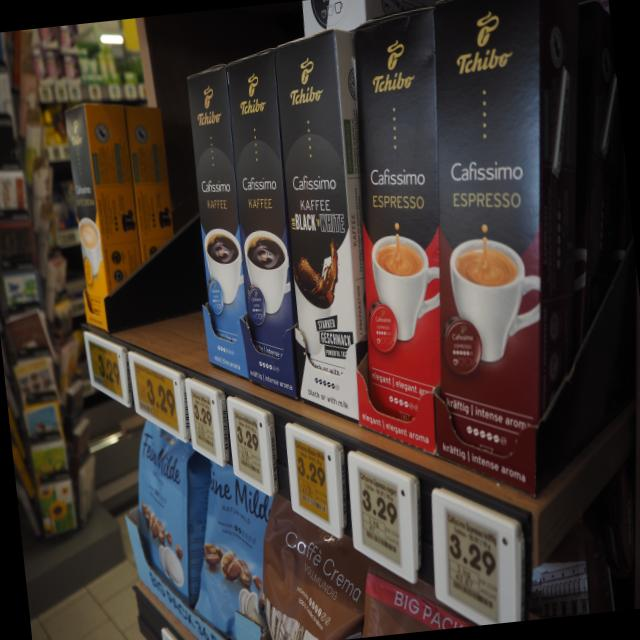Empty Shelf: (105, 90, 205, 358)
FM 36 Pads: (191, 460, 273, 640), (137, 411, 211, 610)
Simo CCMild bigpack: (63, 99, 109, 326)
Simo Es Elegant: (352, 2, 438, 454)
Simo Es Kraft: (437, 0, 541, 498)
Simo Kaffee BW: (272, 27, 361, 424)
Simo Kaffee Kraft: (227, 48, 300, 402)
Simo Kaffee Mild: (183, 56, 250, 381)
